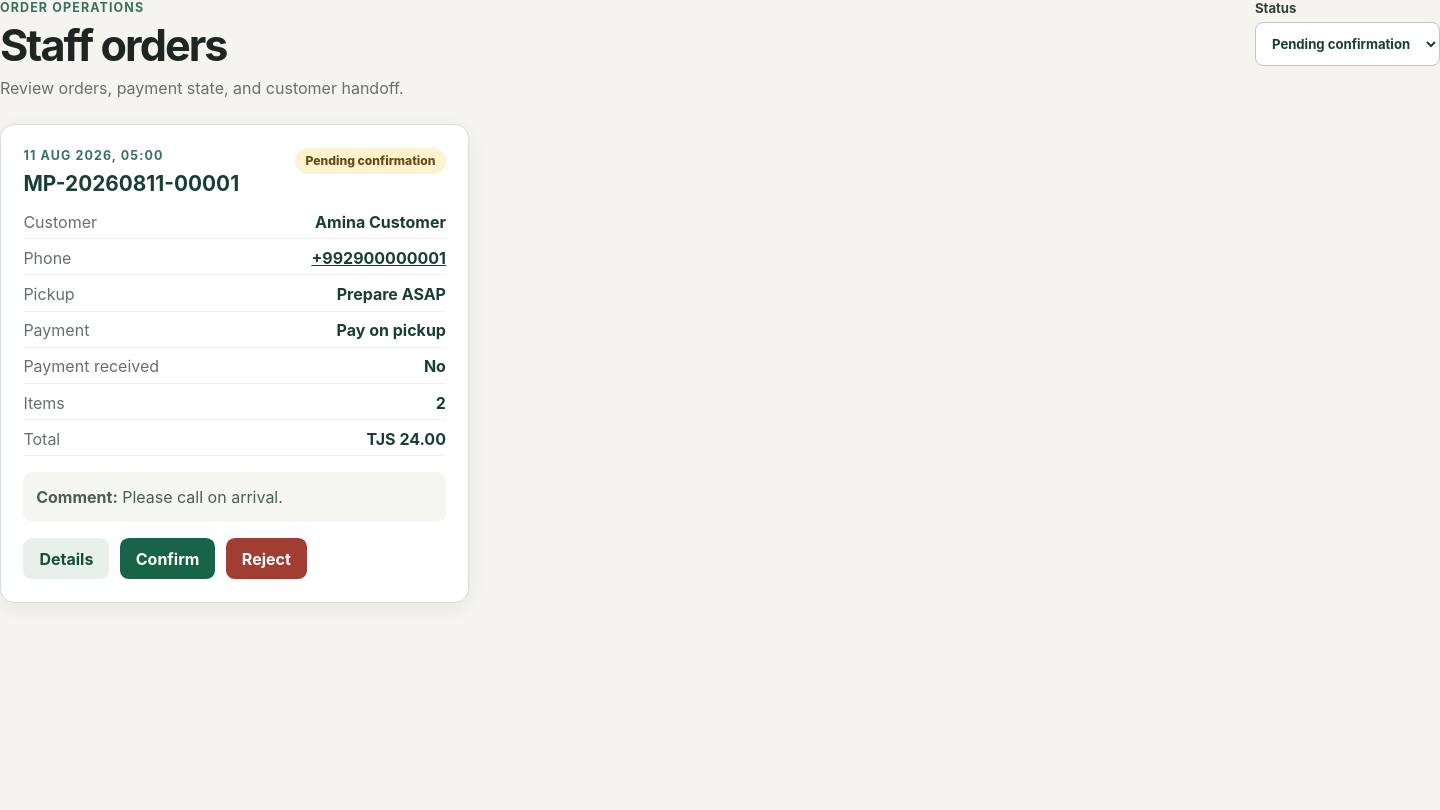
Test case: staff order dashboard › renders pending customer details and confirms with the current row version
Expected: the heading "MP-20260811-00001" is shown, [23,171,239,196]
Expected: the text "Amina Customer" is shown, [315,212,446,232]
Click the button "Confirm": (168, 559) [120,538,215,579]
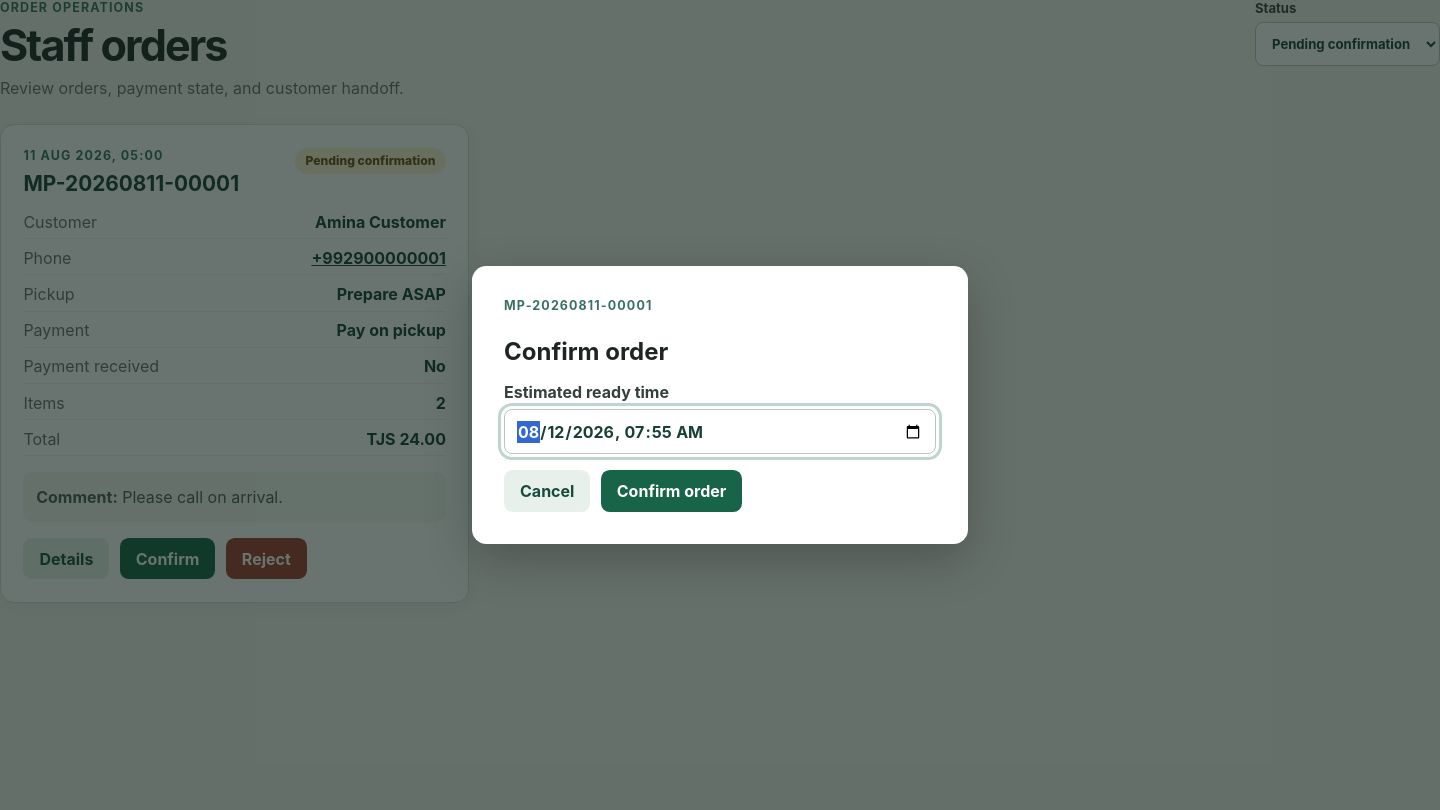
Replace the text in the field labelled "Estimated ready time" with "2026-08-11T11:30": (720, 432) [504,409,936,454]
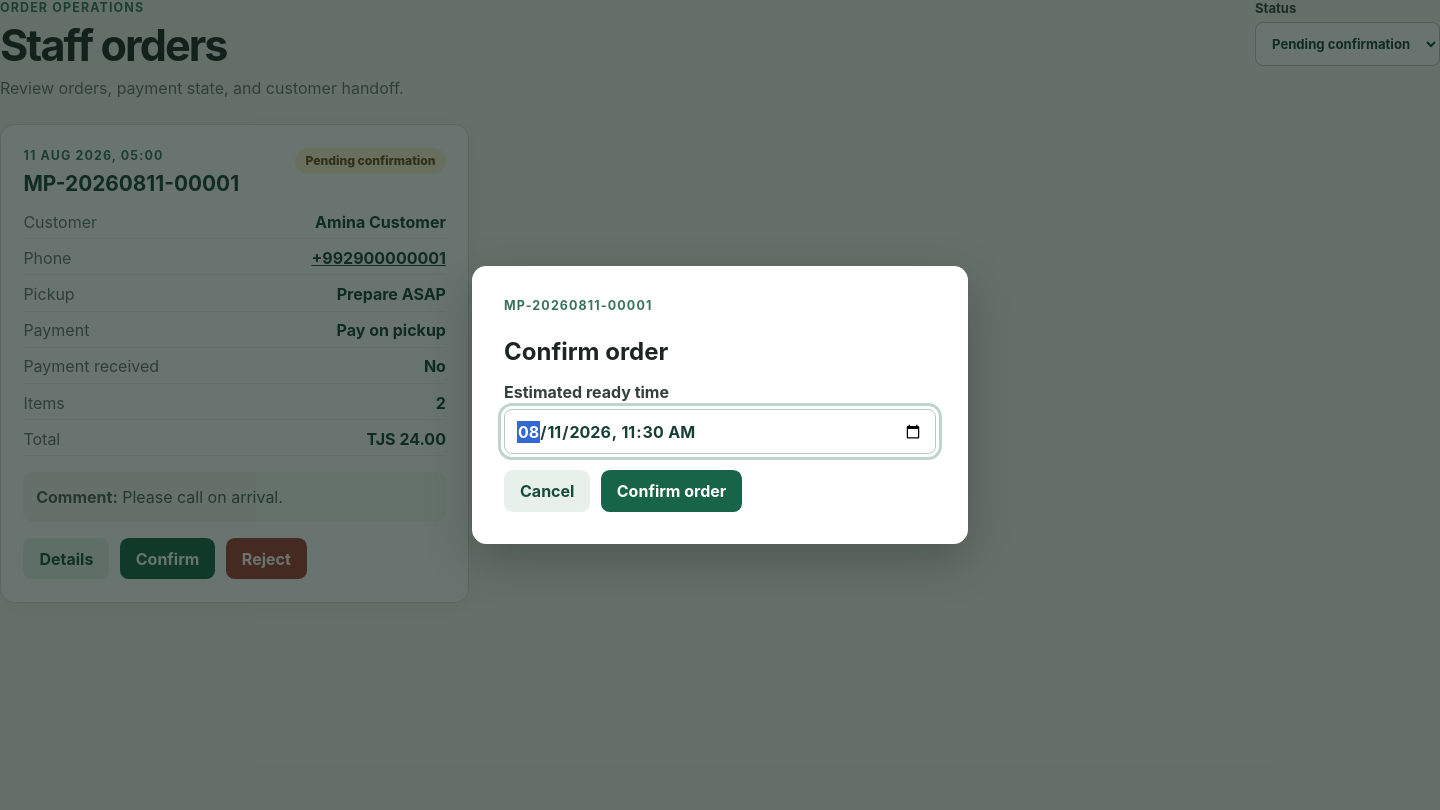
Click the button "Confirm order": (672, 491) [601,470,742,512]
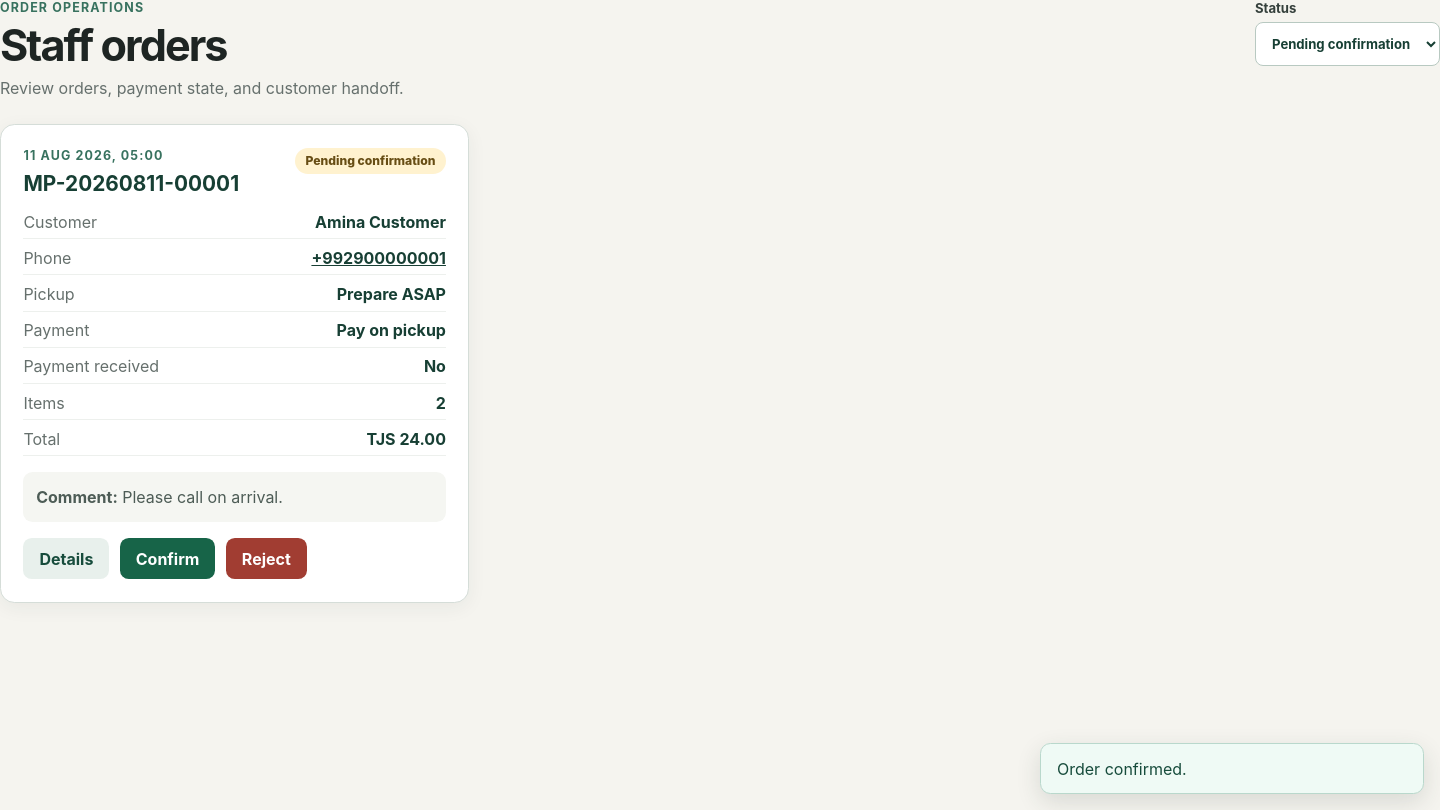
Expected: the text "Order confirmed." is shown, [1040,743,1424,794]
